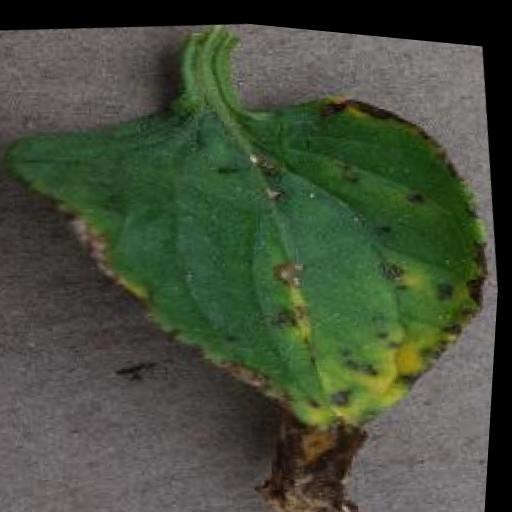Bacterial Spot: (0, 40, 510, 512)
